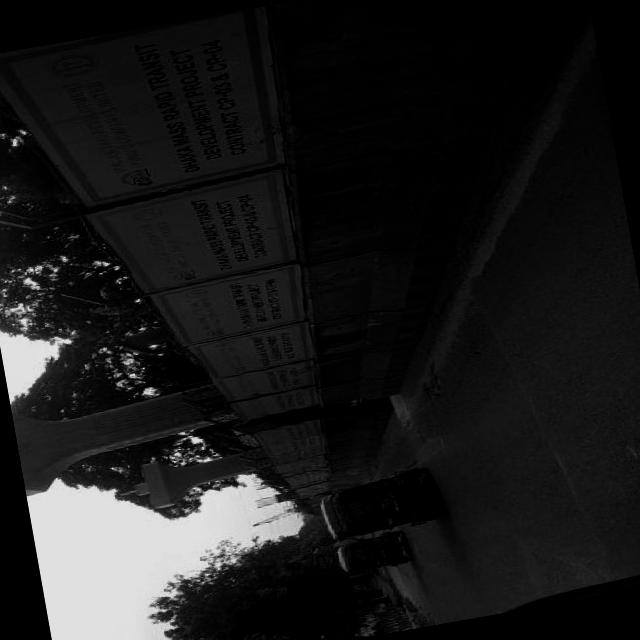motorcycle: (314, 462, 444, 546), (332, 528, 415, 578)
